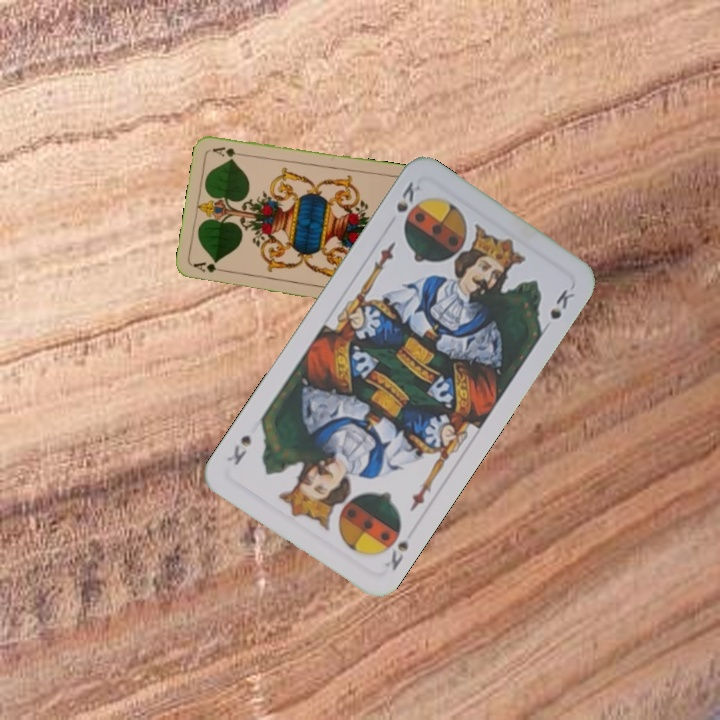GA: (189, 258, 230, 275)
SK: (380, 523, 418, 574), (392, 177, 424, 216)
